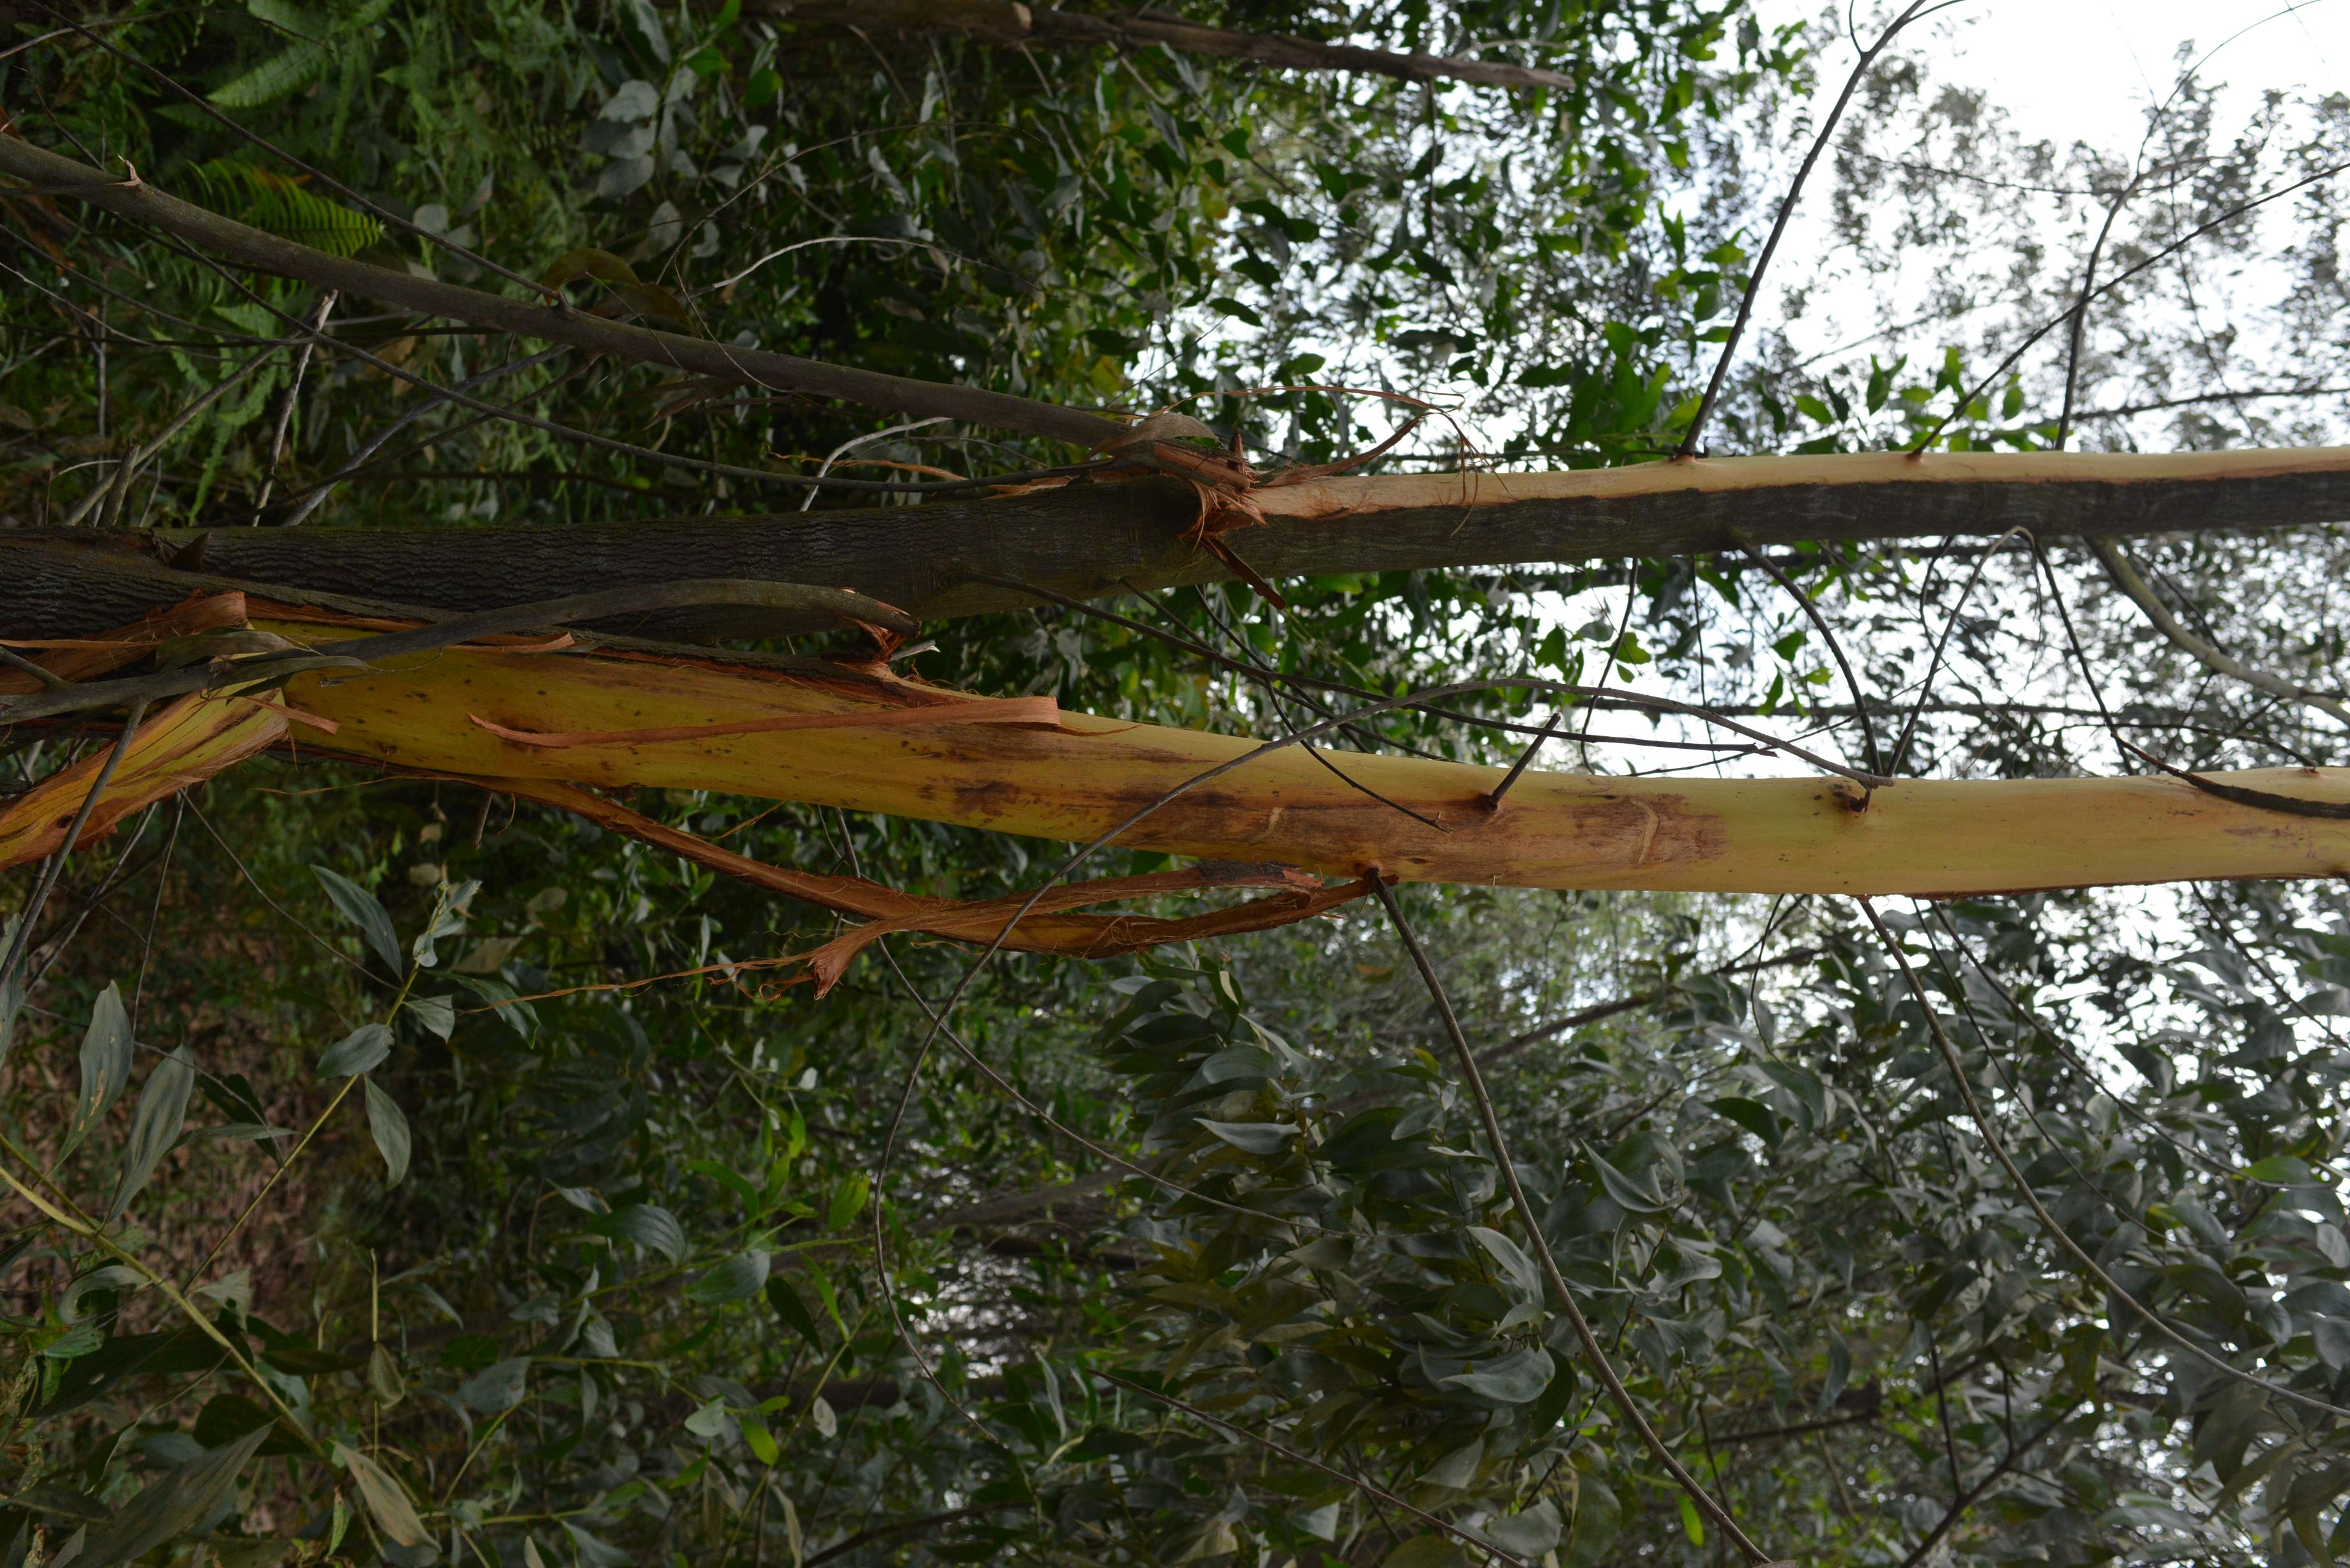Mammals Attack: (269, 604, 2350, 901), (1195, 441, 2350, 513)
